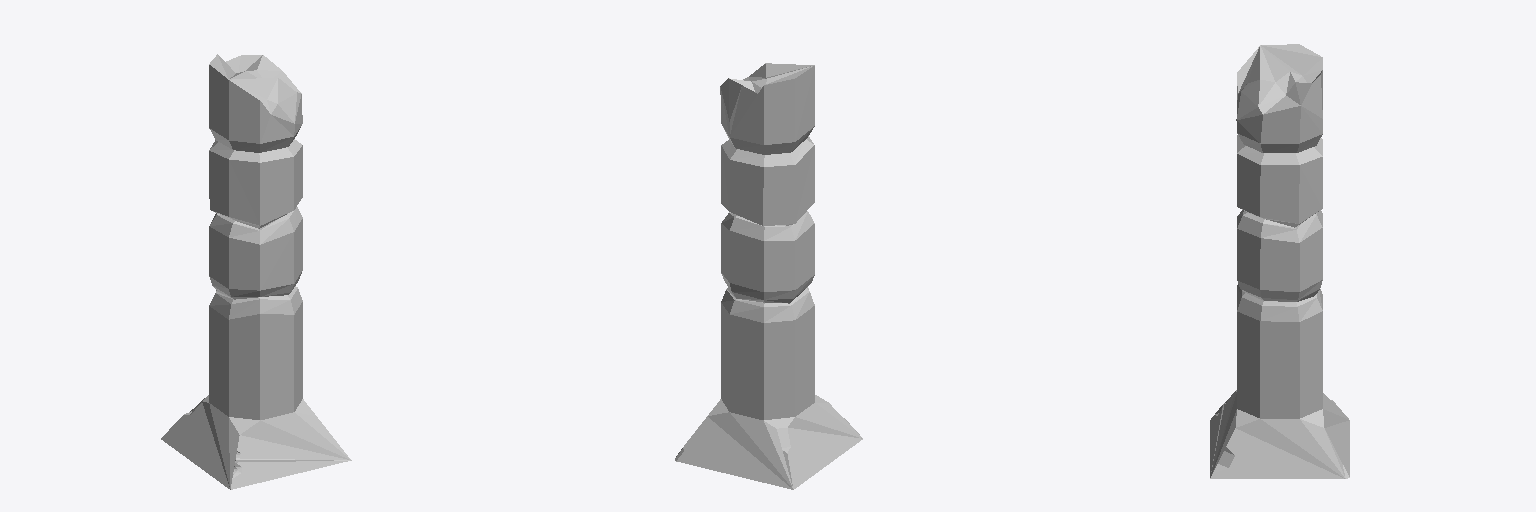
Rendered from pillar_broken.obj.
3 views of the same model, side by side, from view 1: azimuth 30°, elevation 25°; view 2: azimuth 150°, elevation 25°; view 3: azimuth 270°, elevation 25° (orthographic).
Parts seen in each view (by area): view 1: Cube; view 2: Cube; view 3: Cube.
Boxes of the visible parts, x1,y1,x2,y2 form: Cube: [161, 54, 351, 489]; Cube: [675, 63, 862, 489]; Cube: [1210, 44, 1349, 478].
Bounding box in the file's own units: 3.6 × 11 × 3.6.